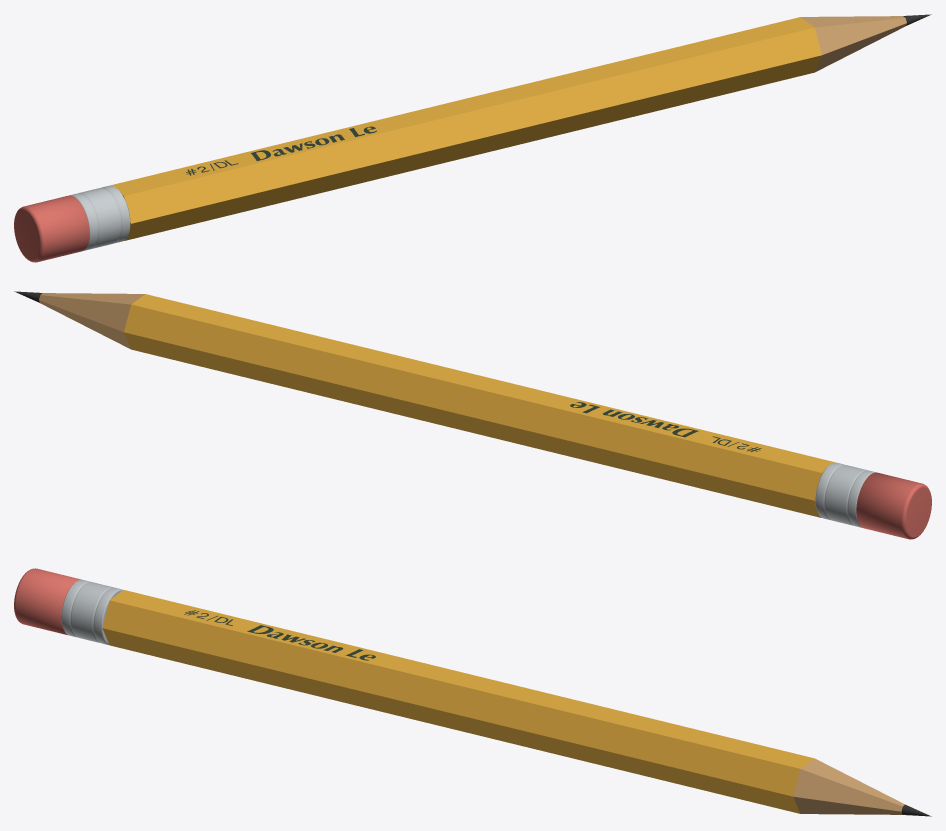
Rendered from pencil-nostalgic-name.glb.
The picture shows the model from 3 angles, top to bottom: view 1: azimuth 30°, elevation 25°; view 2: azimuth 150°, elevation 25°; view 3: azimuth 330°, elevation 25°; orthographic projection.
Visible parts, largest first — view 1: Refined_Pencil_Shaft, Refined_Pencil_Eraser, Refined_Pencil_Wood, Refined_Pencil_Ferrule, Refined_Pencil_Name_Stamp; view 2: Refined_Pencil_Shaft, Refined_Pencil_Eraser, Refined_Pencil_Wood, Refined_Pencil_Ferrule, Refined_Pencil_Name_Stamp; view 3: Refined_Pencil_Shaft, Refined_Pencil_Wood, Refined_Pencil_Eraser, Refined_Pencil_Ferrule, Refined_Pencil_Name_Stamp.
Boxes of the visible parts, <box> form: Refined_Pencil_Shaft: <box>110,17,821,240</box>; Refined_Pencil_Eraser: <box>14,195,89,262</box>; Refined_Pencil_Wood: <box>801,16,906,72</box>; Refined_Pencil_Ferrule: <box>70,185,130,250</box>; Refined_Pencil_Name_Stamp: <box>251,126,376,160</box>; Refined_Pencil_Shaft: <box>124,294,835,517</box>; Refined_Pencil_Eraser: <box>856,472,931,539</box>; Refined_Pencil_Wood: <box>39,293,144,349</box>; Refined_Pencil_Ferrule: <box>815,462,875,527</box>; Refined_Pencil_Name_Stamp: <box>570,402,698,437</box>; Refined_Pencil_Shaft: <box>102,590,814,813</box>; Refined_Pencil_Wood: <box>793,758,904,814</box>; Refined_Pencil_Eraser: <box>14,568,81,634</box>; Refined_Pencil_Ferrule: <box>61,579,122,644</box>; Refined_Pencil_Name_Stamp: <box>247,625,375,660</box>.
Size of the model in its own units: 0.1965 by 0.0108 by 0.0108.
